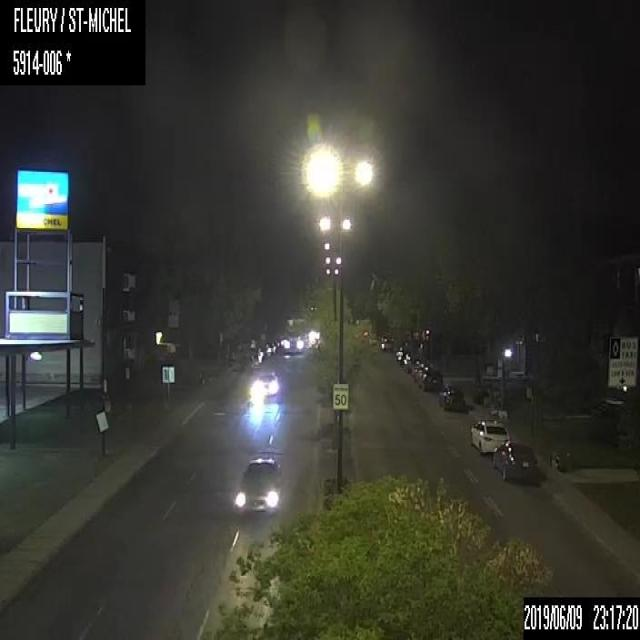vehicle: (234, 457, 283, 517), (491, 439, 536, 481), (469, 419, 508, 455), (283, 316, 308, 354), (437, 382, 466, 411), (250, 370, 278, 396), (421, 368, 442, 391), (247, 345, 264, 363), (413, 361, 428, 380), (376, 333, 393, 348), (261, 340, 272, 356), (270, 338, 280, 352)
